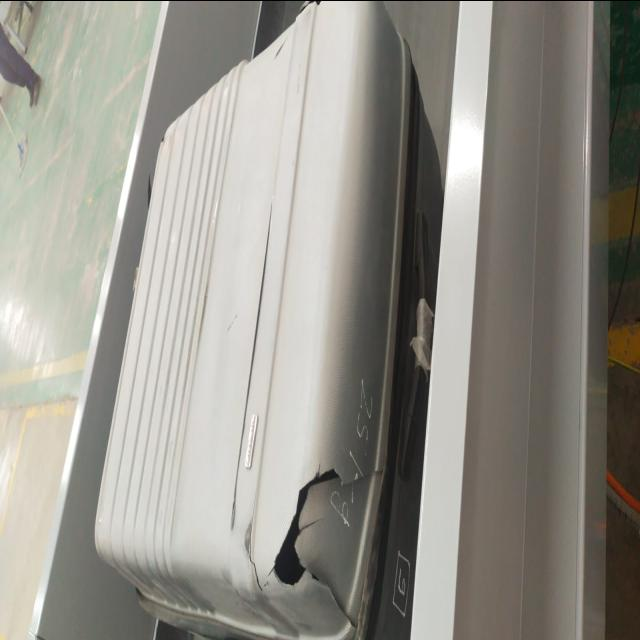Damage-bag: (275, 468, 381, 623)
